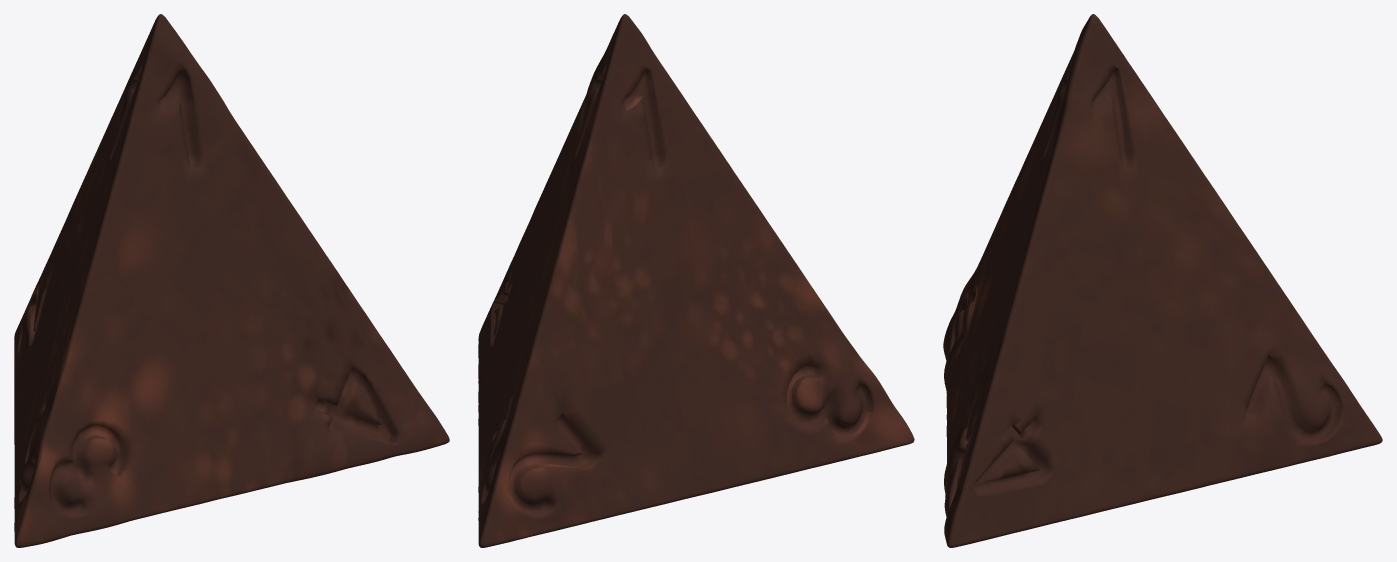
File: pyra_one2.glb
3 renders of one model, left to right at view 1: azimuth 30°, elevation 25°; view 2: azimuth 150°, elevation 25°; view 3: azimuth 270°, elevation 25°, orthographic.
Visible parts, largest first — view 1: Retopo_Cone.006_subdiv_applied.003_Baked; view 2: Retopo_Cone.006_subdiv_applied.003_Baked; view 3: Retopo_Cone.006_subdiv_applied.003_Baked.
Part boxes in pixels (x1,y1,x2,y2): Retopo_Cone.006_subdiv_applied.003_Baked: (14,14,449,547); Retopo_Cone.006_subdiv_applied.003_Baked: (478,14,914,547); Retopo_Cone.006_subdiv_applied.003_Baked: (943,14,1382,547).
Size of the model in its own units: 1.69 by 1.63 by 1.48.
Materials: 1 (1 with a texture image).
